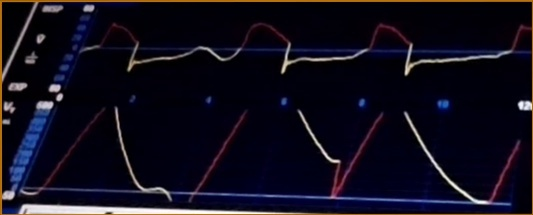Ineffective_effort Flow: (82, 15, 531, 80)
Ineffective_effort Volume: (26, 107, 521, 204)
